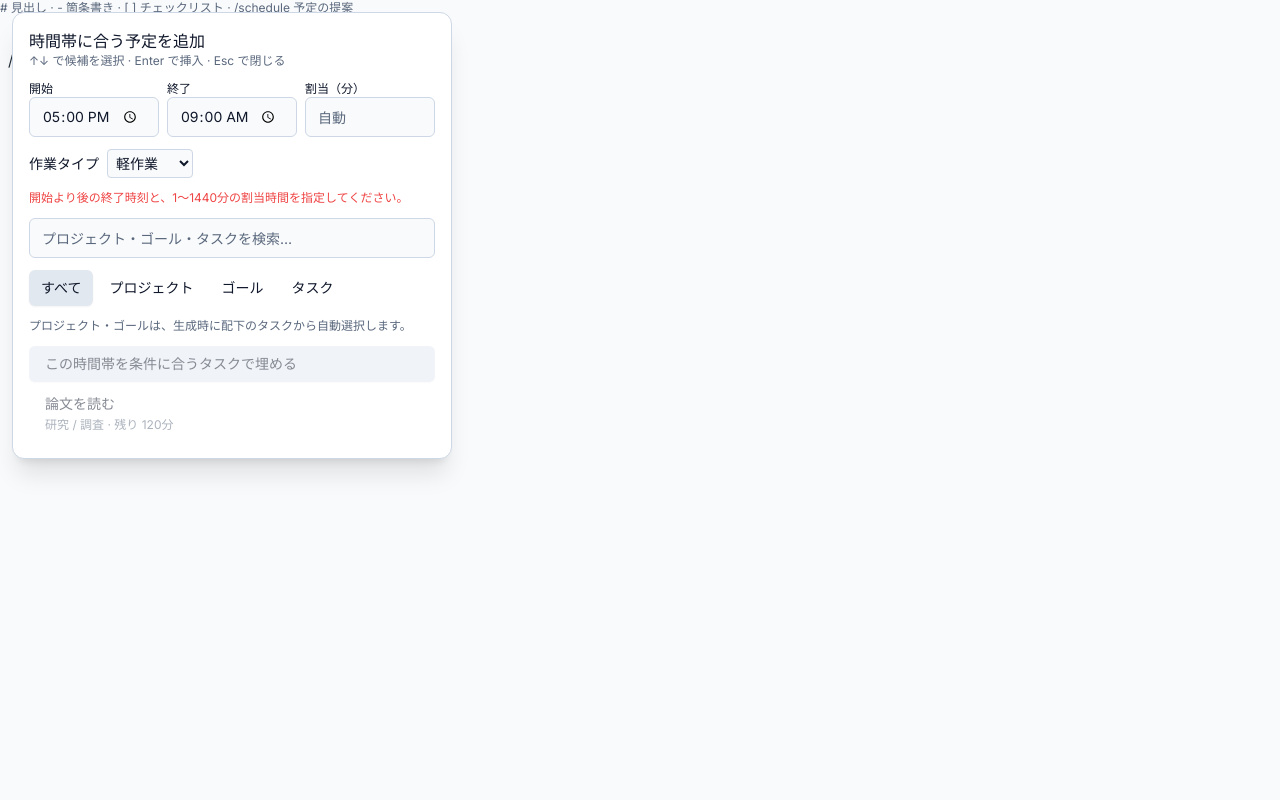
Test: requires correction of an invalid time range instead of silently replacing it
Expected: the message "開始より後の終了時刻と、1〜1440分の割当時間を指定してください。" is shown, [29, 190, 435, 206]
Expected: the option "この時間帯を条件に合うタスクで埋める" is disabled, [29, 346, 435, 382]
Step 1. Replace the text in the time field named "提案の終了時刻" with "18:00" → (232, 117), box [167, 97, 297, 137]
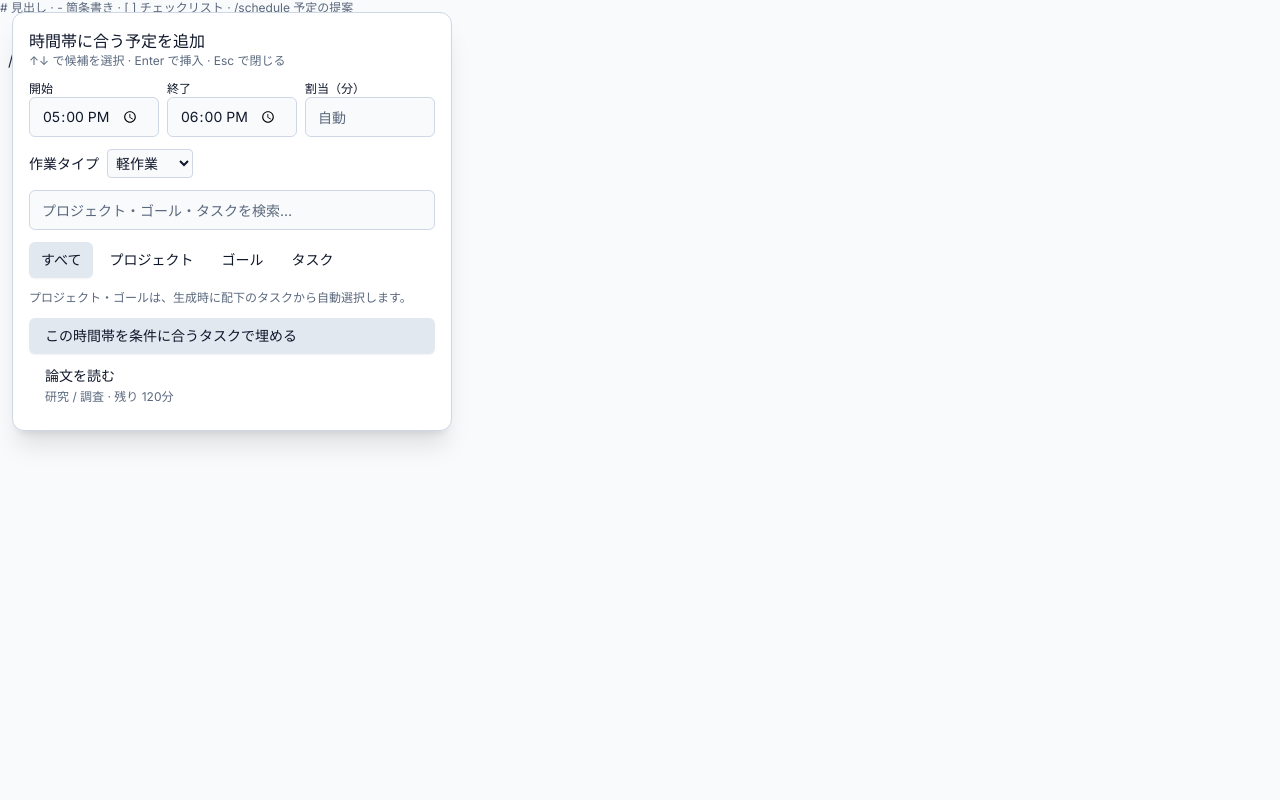
Step 2. Click the option "この時間帯を条件に合うタスクで埋める" → (232, 336), box [29, 318, 435, 354]
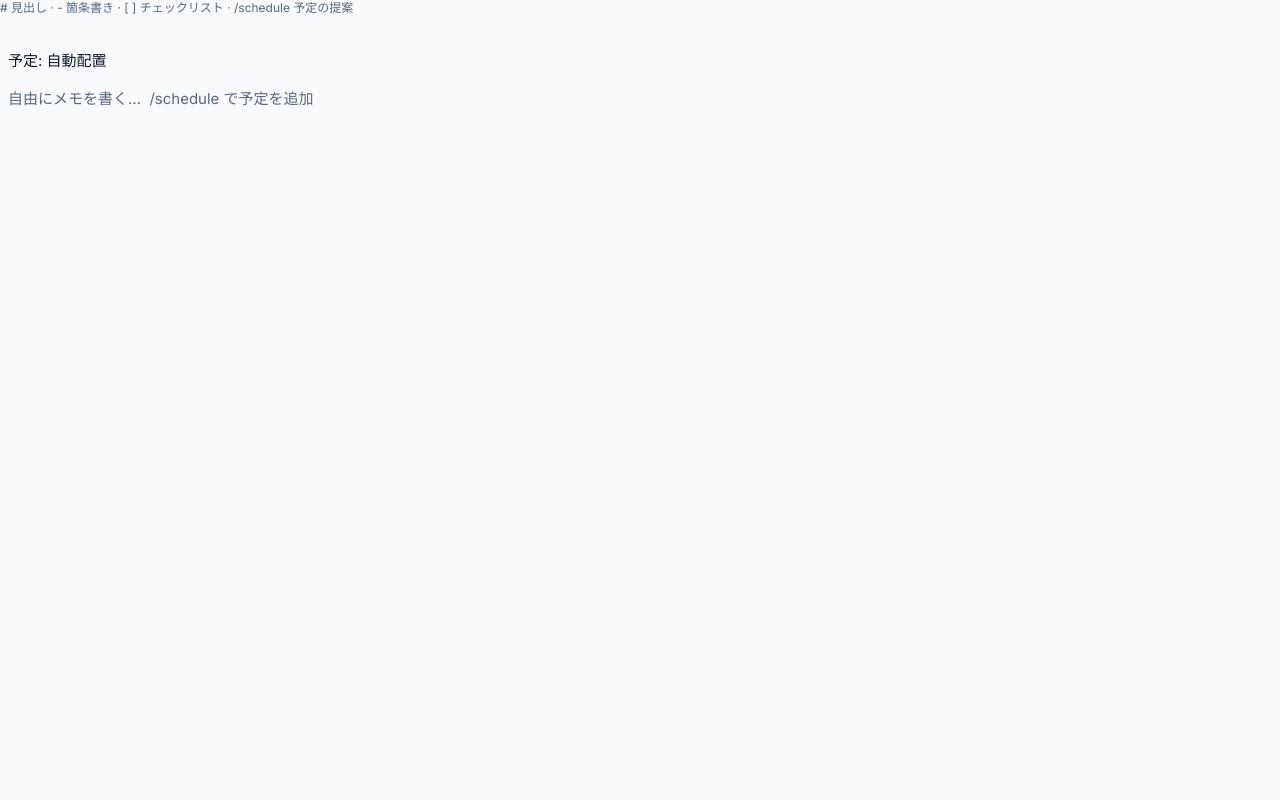
Result: the text "予定: 自動配置" is shown at [8, 51, 106, 70]
